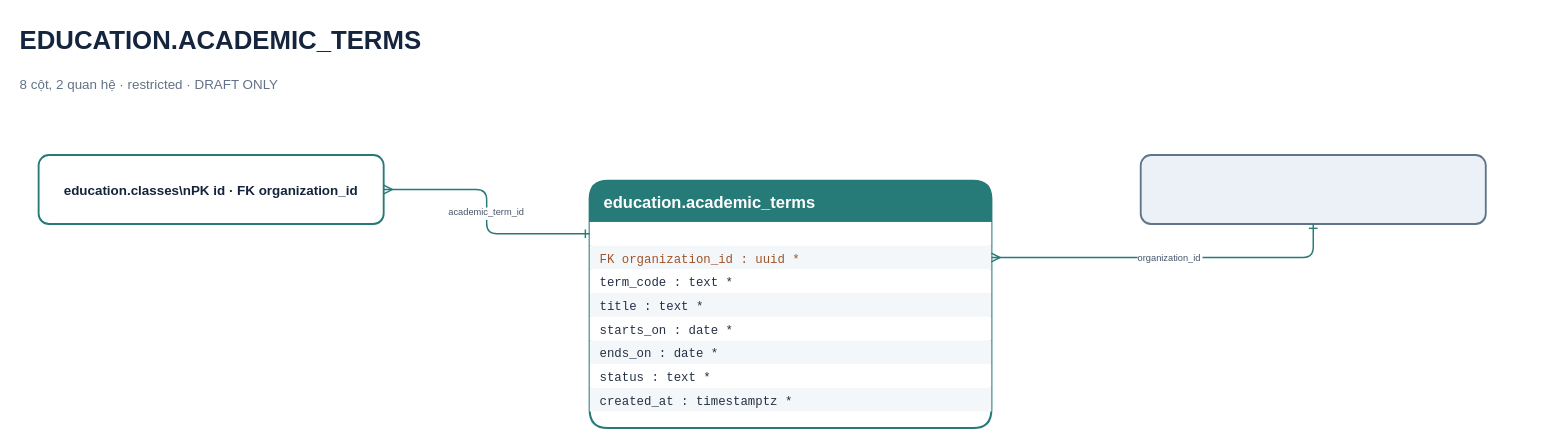
The diagram is 1559 pixels wide and 446 high, and some of its shapes have lost their labels. The box of each missing label's shape, as (x1, y1, x2, y2) in pixels:
PK id : uuid *: (589, 221, 991, 245)
tenancy.organizations\nP0 dependency: (1139, 154, 1486, 224)
